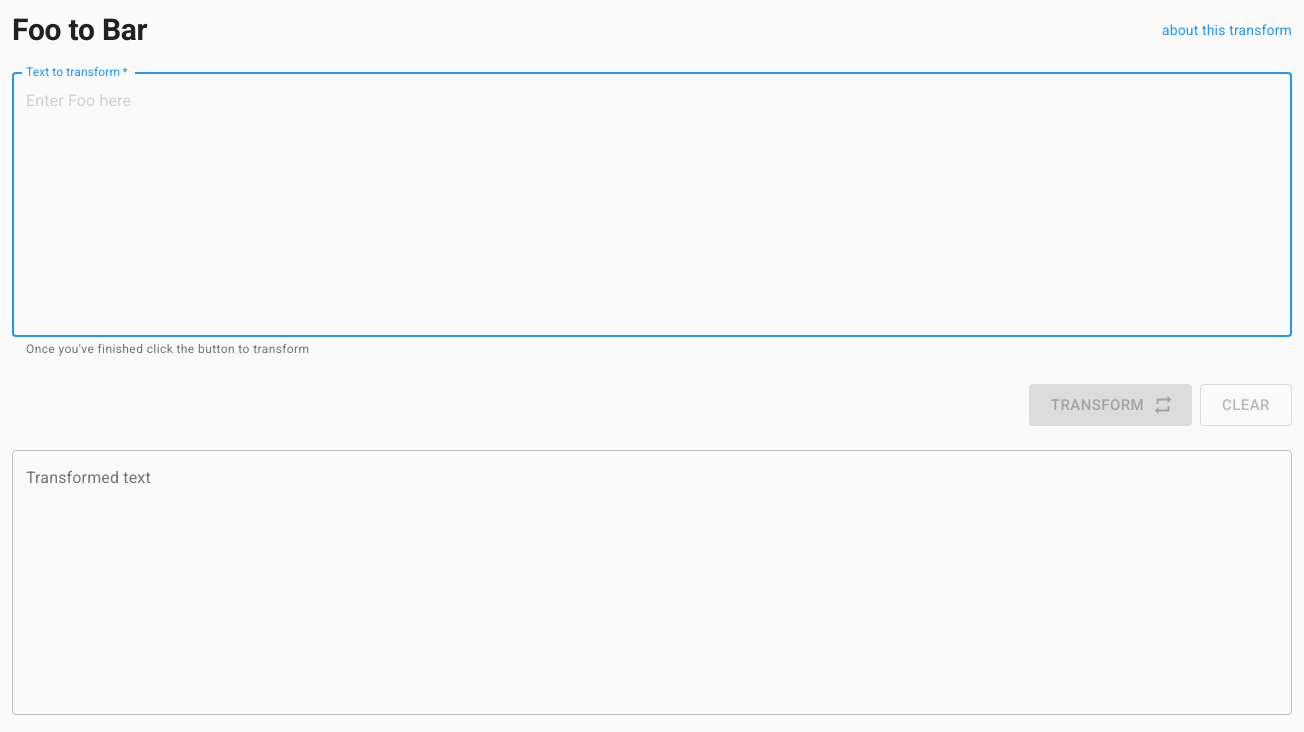
Scenario: Transform › after the user has entered text in the input box › when the clear button is clicked › resets the input box to empty
Type "stuff" into the text box labelled "Text to transform *" at (652, 204), box 26,90 -> 1278,318
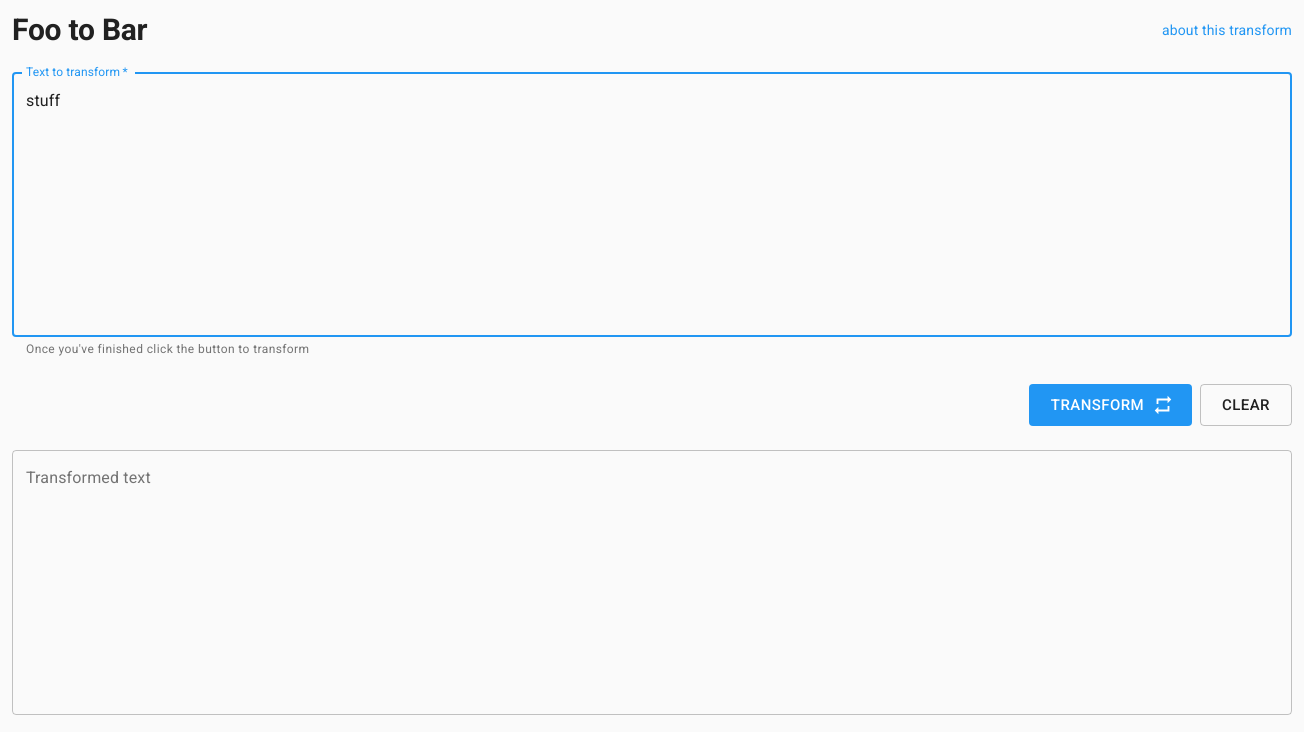
Click the button "Clear" at (1246, 405), box 1200,384 -> 1292,426
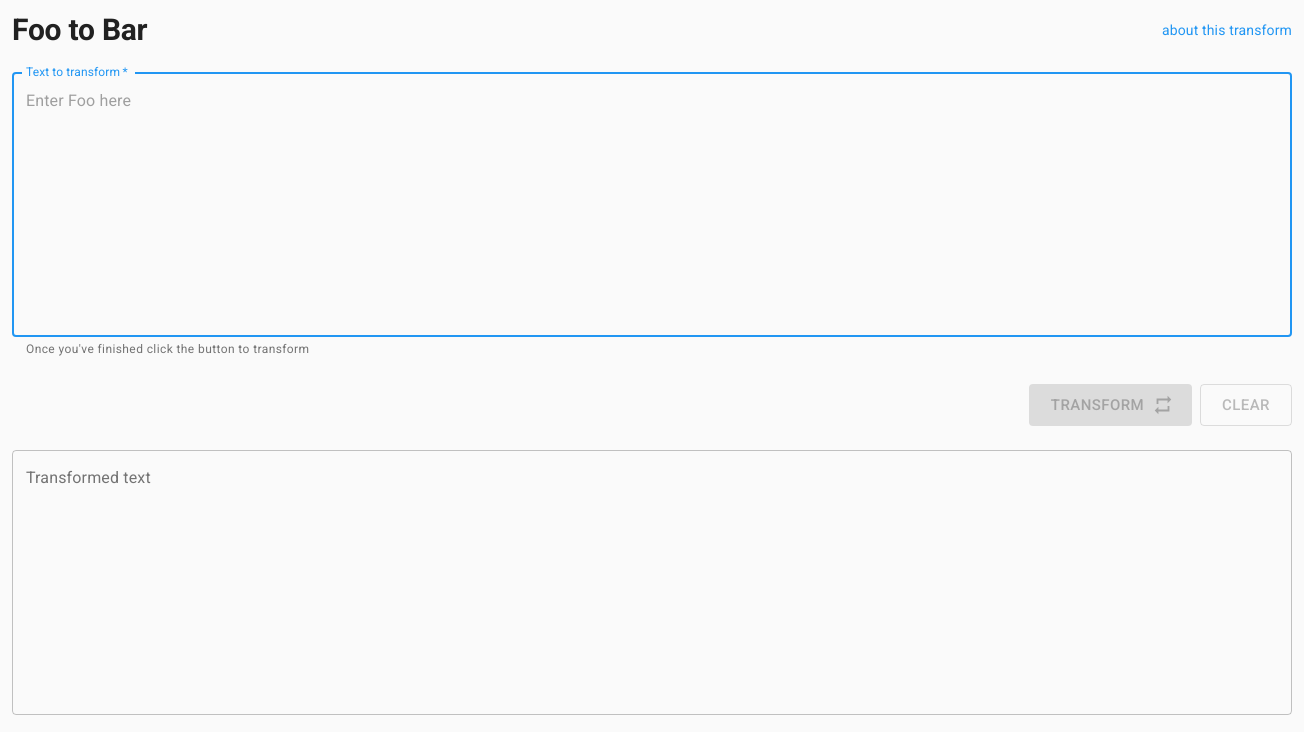
Result: the text box labelled "Text to transform *" is empty at 26,90 -> 1278,318
